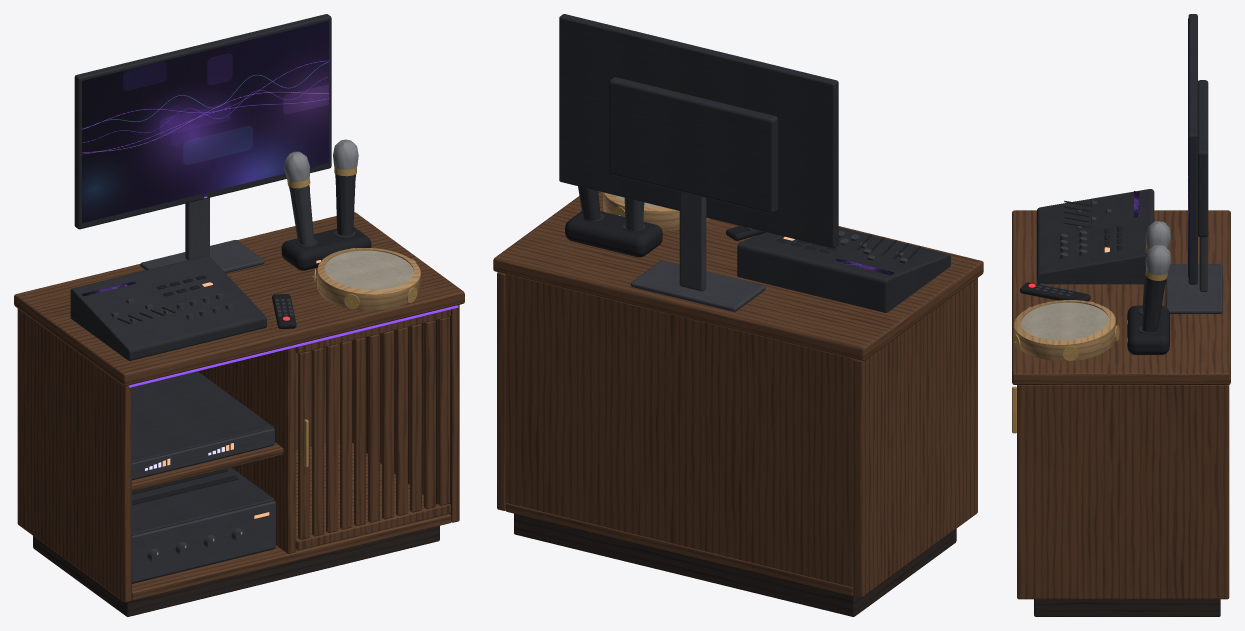
Rendered from karaoke_machine.glb.
3 views of the same model, side by side, from view 1: azimuth 30°, elevation 25°; view 2: azimuth 150°, elevation 25°; view 3: azimuth 270°, elevation 25° (orthographic). The views are drawn at different scales.
Visible parts, largest first — view 1: part_cabinet_LOD0, part_monitor_glass_LOD0, part_door_LOD0, part_amp_LOD0, part_top_LOD0, part_console_LOD0, part_tambourine_LOD0, part_monitor_LOD0, part_stand_LOD0, part_dock_LOD0, part_mic_2_LOD0, part_mic_1_LOD0 (+2 smaller); view 2: part_cabinet_LOD0, part_monitor_LOD0, part_top_LOD0, part_console_LOD0, part_stand_LOD0, part_dock_LOD0, part_tambourine_LOD0; view 3: part_cabinet_LOD0, part_top_LOD0, part_console_LOD0, part_tambourine_LOD0, part_monitor_LOD0, part_stand_LOD0, part_mic_2_LOD0, part_dock_LOD0, part_remote_LOD0, part_mic_1_LOD0.
Part boxes in pixels (box(x1,y1,x2,y2)): part_cabinet_LOD0: box(17, 305, 459, 616); part_monitor_glass_LOD0: box(82, 20, 328, 222); part_door_LOD0: box(295, 309, 450, 550); part_amp_LOD0: box(132, 371, 275, 583); part_top_LOD0: box(14, 212, 464, 385); part_console_LOD0: box(70, 255, 266, 360); part_tambourine_LOD0: box(312, 248, 420, 310); part_monitor_LOD0: box(74, 14, 331, 229); part_stand_LOD0: box(140, 197, 264, 273); part_dock_LOD0: box(281, 227, 371, 270); part_mic_2_LOD0: box(333, 139, 358, 235); part_mic_1_LOD0: box(284, 151, 313, 245); part_cabinet_LOD0: box(497, 272, 977, 616); part_monitor_LOD0: box(559, 14, 838, 248); part_top_LOD0: box(493, 191, 983, 360); part_console_LOD0: box(737, 227, 950, 312); part_stand_LOD0: box(630, 191, 765, 311); part_dock_LOD0: box(565, 211, 662, 257); part_tambourine_LOD0: box(602, 192, 709, 230); part_cabinet_LOD0: box(1017, 385, 1229, 616); part_top_LOD0: box(1012, 210, 1230, 384); part_console_LOD0: box(1036, 189, 1154, 284); part_tambourine_LOD0: box(1013, 300, 1119, 361); part_monitor_LOD0: box(1188, 14, 1208, 284); part_stand_LOD0: box(1165, 236, 1222, 313); part_mic_2_LOD0: box(1142, 244, 1170, 332); part_dock_LOD0: box(1127, 305, 1169, 354); part_remote_LOD0: box(1019, 282, 1090, 301); part_mic_1_LOD0: box(1142, 221, 1170, 311).
Size of what is drawn, in the model's own units: 0.916 by 1.22 by 0.516.
Materials: 20 (15 with a texture image).
